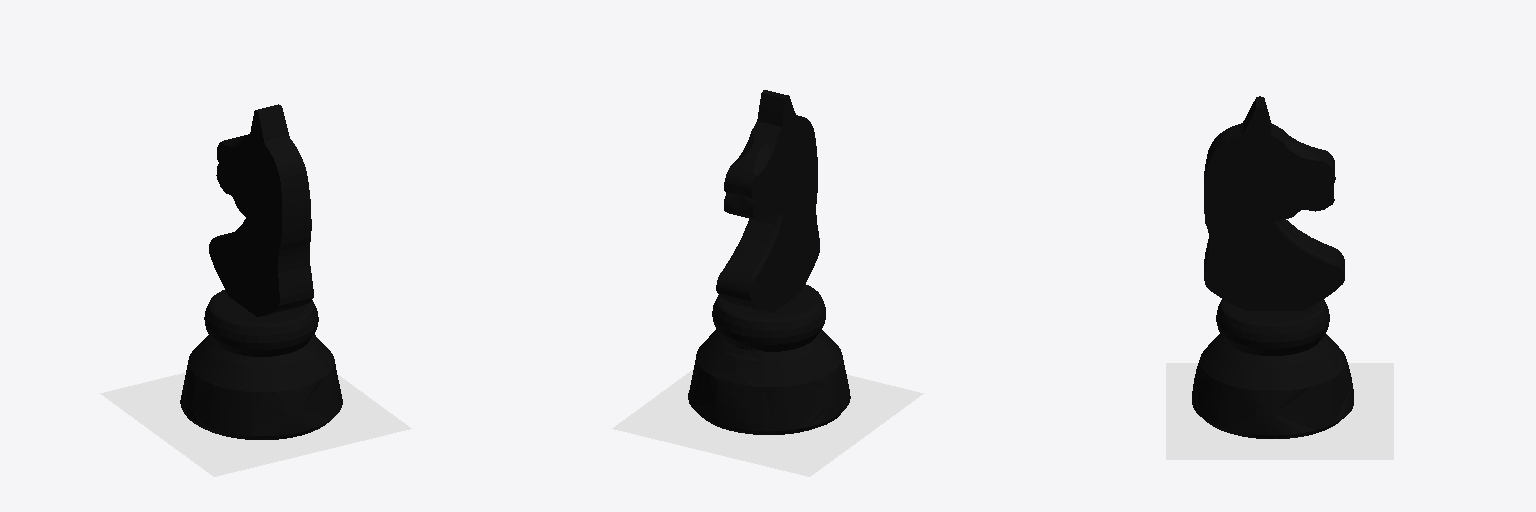
Rendered from blackKnight.obj.
The picture shows the model from 3 angles: view 1: azimuth 30°, elevation 25°; view 2: azimuth 150°, elevation 25°; view 3: azimuth 270°, elevation 25°; orthographic projection.
Parts seen in each view (by area): view 1: Obj_000095; view 2: Obj_000095; view 3: Obj_000095.
Part boxes in pixels (x1,y1,x2,y2): Obj_000095: (100,104,411,476); Obj_000095: (612,90,923,476); Obj_000095: (1166,96,1393,459).
Bounding box in the file's own units: 0.1969 × 0.2948 × 0.1969.